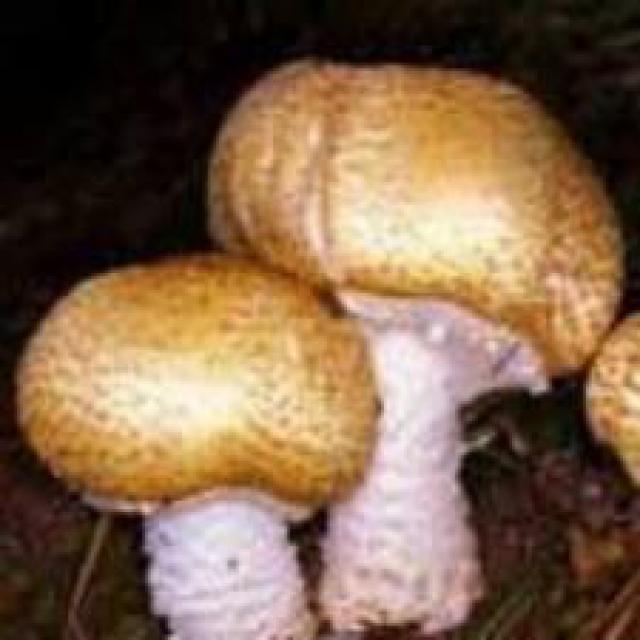Agaricus blazei Murill: (210, 62, 621, 633), (22, 262, 367, 640)
